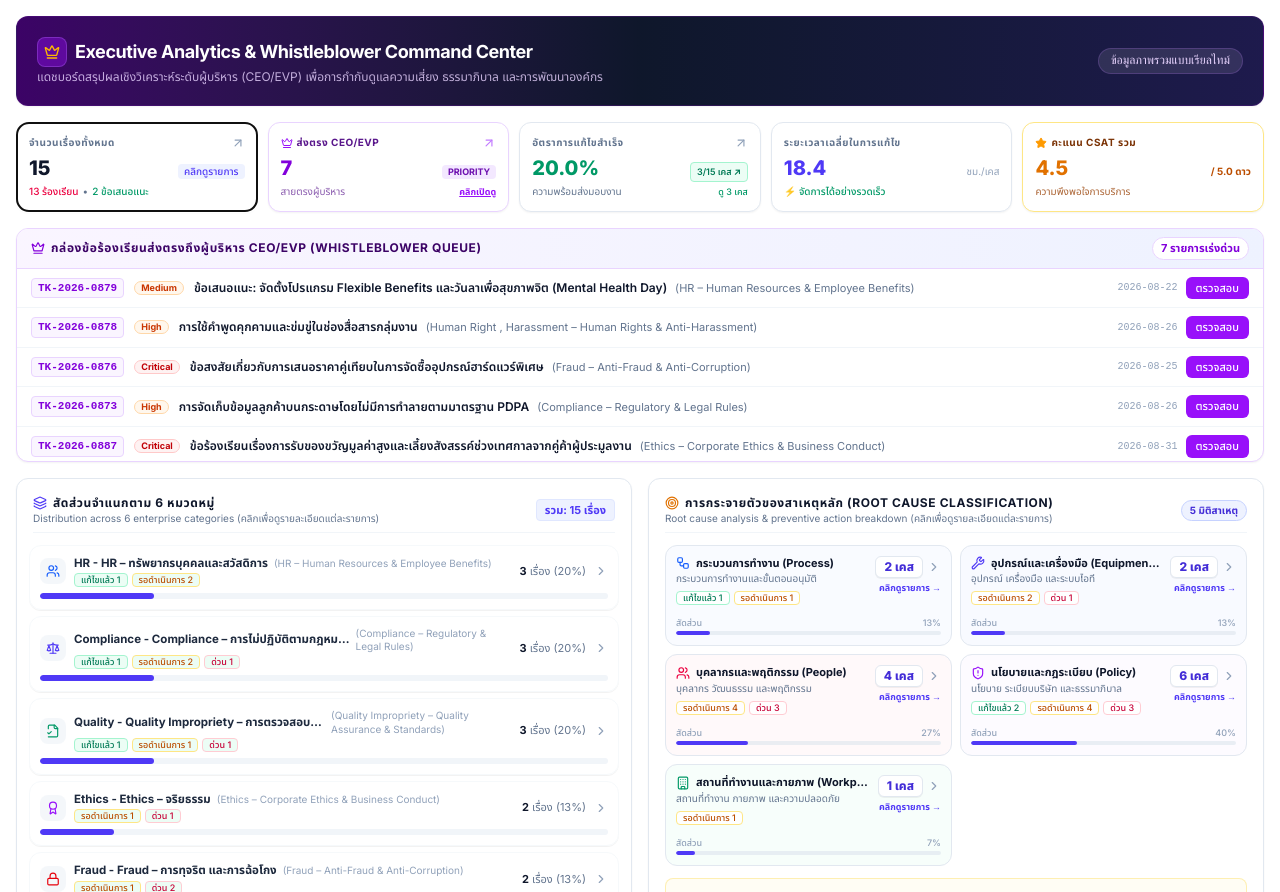
Test case: ExecutiveDashboard › KPI modals › opens a KPI card with the keyboard and closes the modal again
The width and height of the screenshot is (1280, 892).
Press Enter
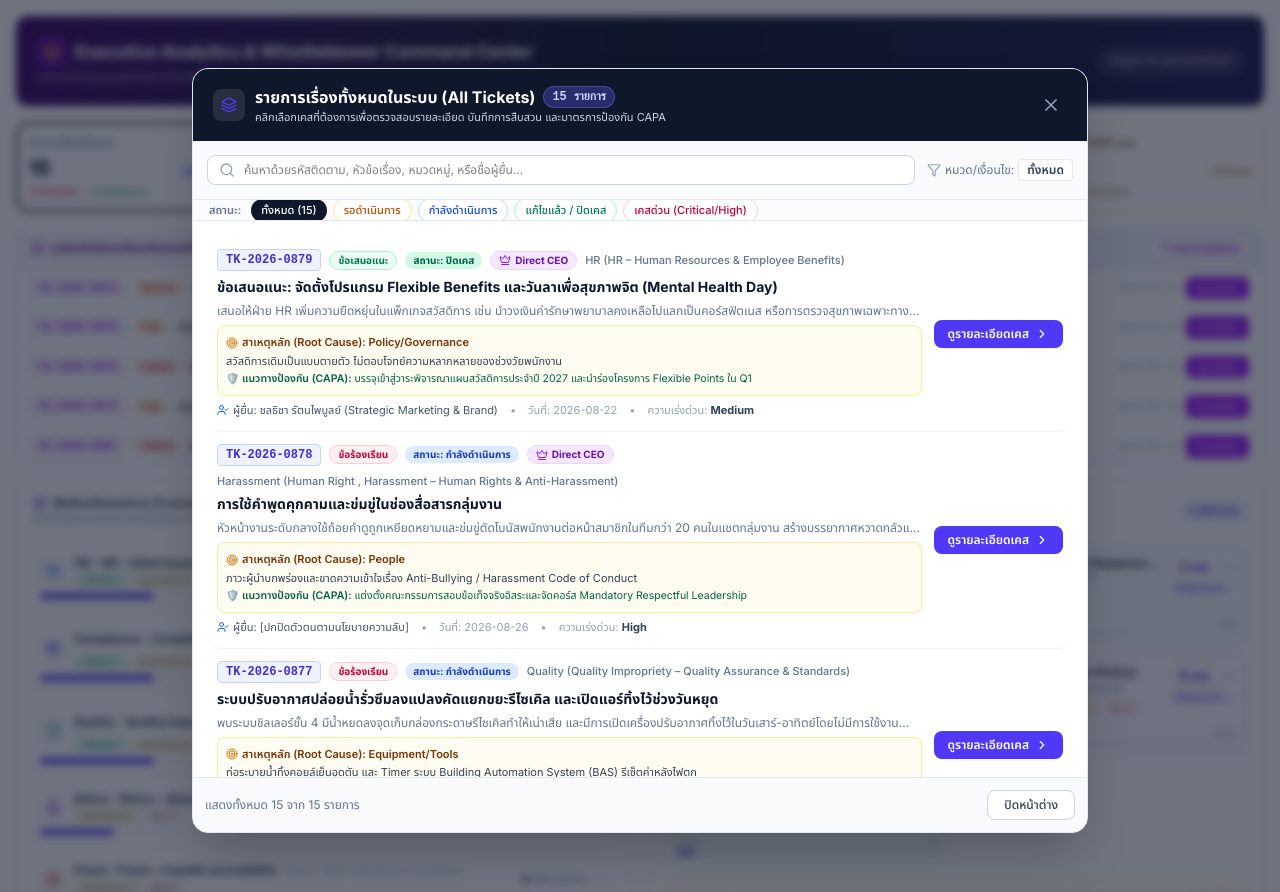
Now the button "ปิดหน้าต่าง" is shown, box [987,790,1075,820]
Click the button named "ปิด". click: (1051, 105)
box: [1035,89,1067,121]
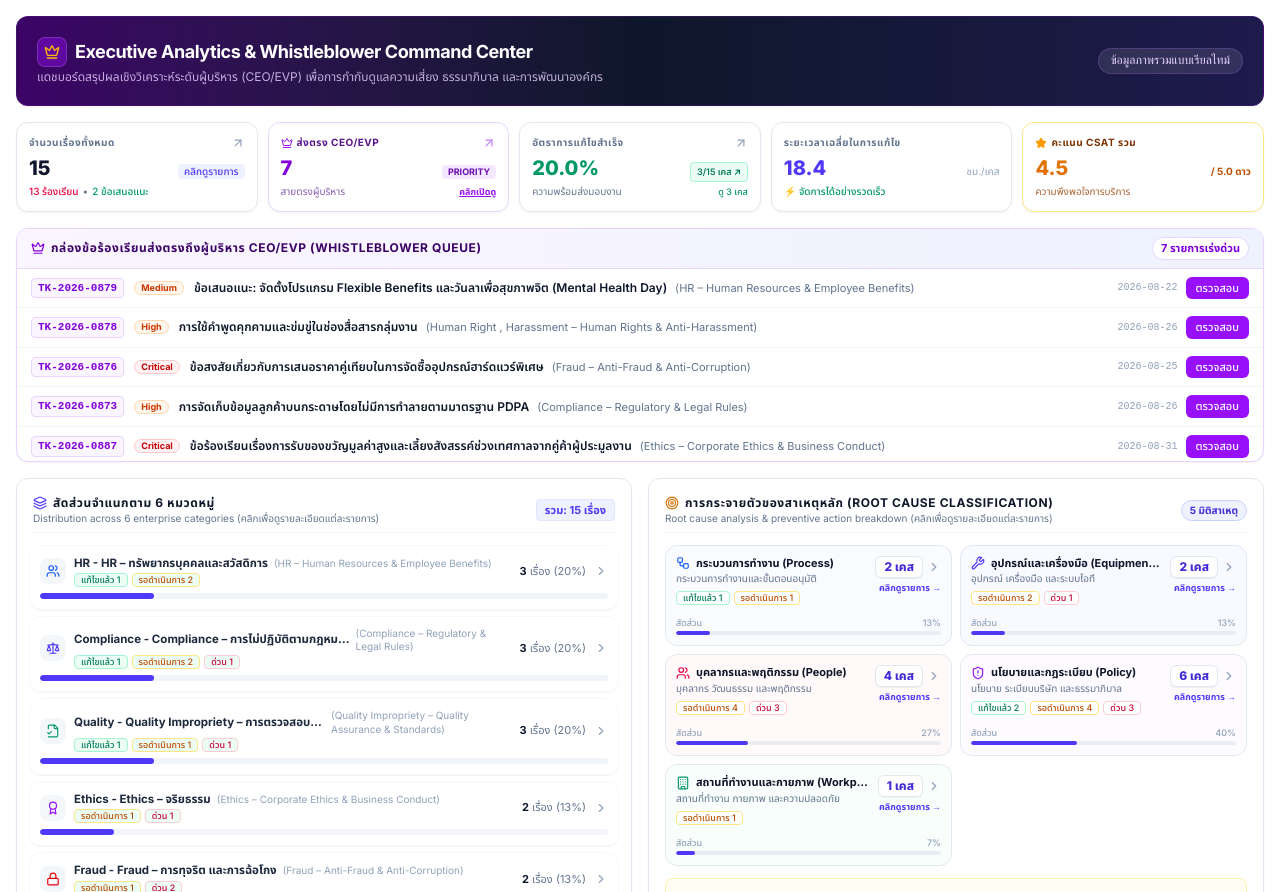
Now the button "ปิดหน้าต่าง" is gone
